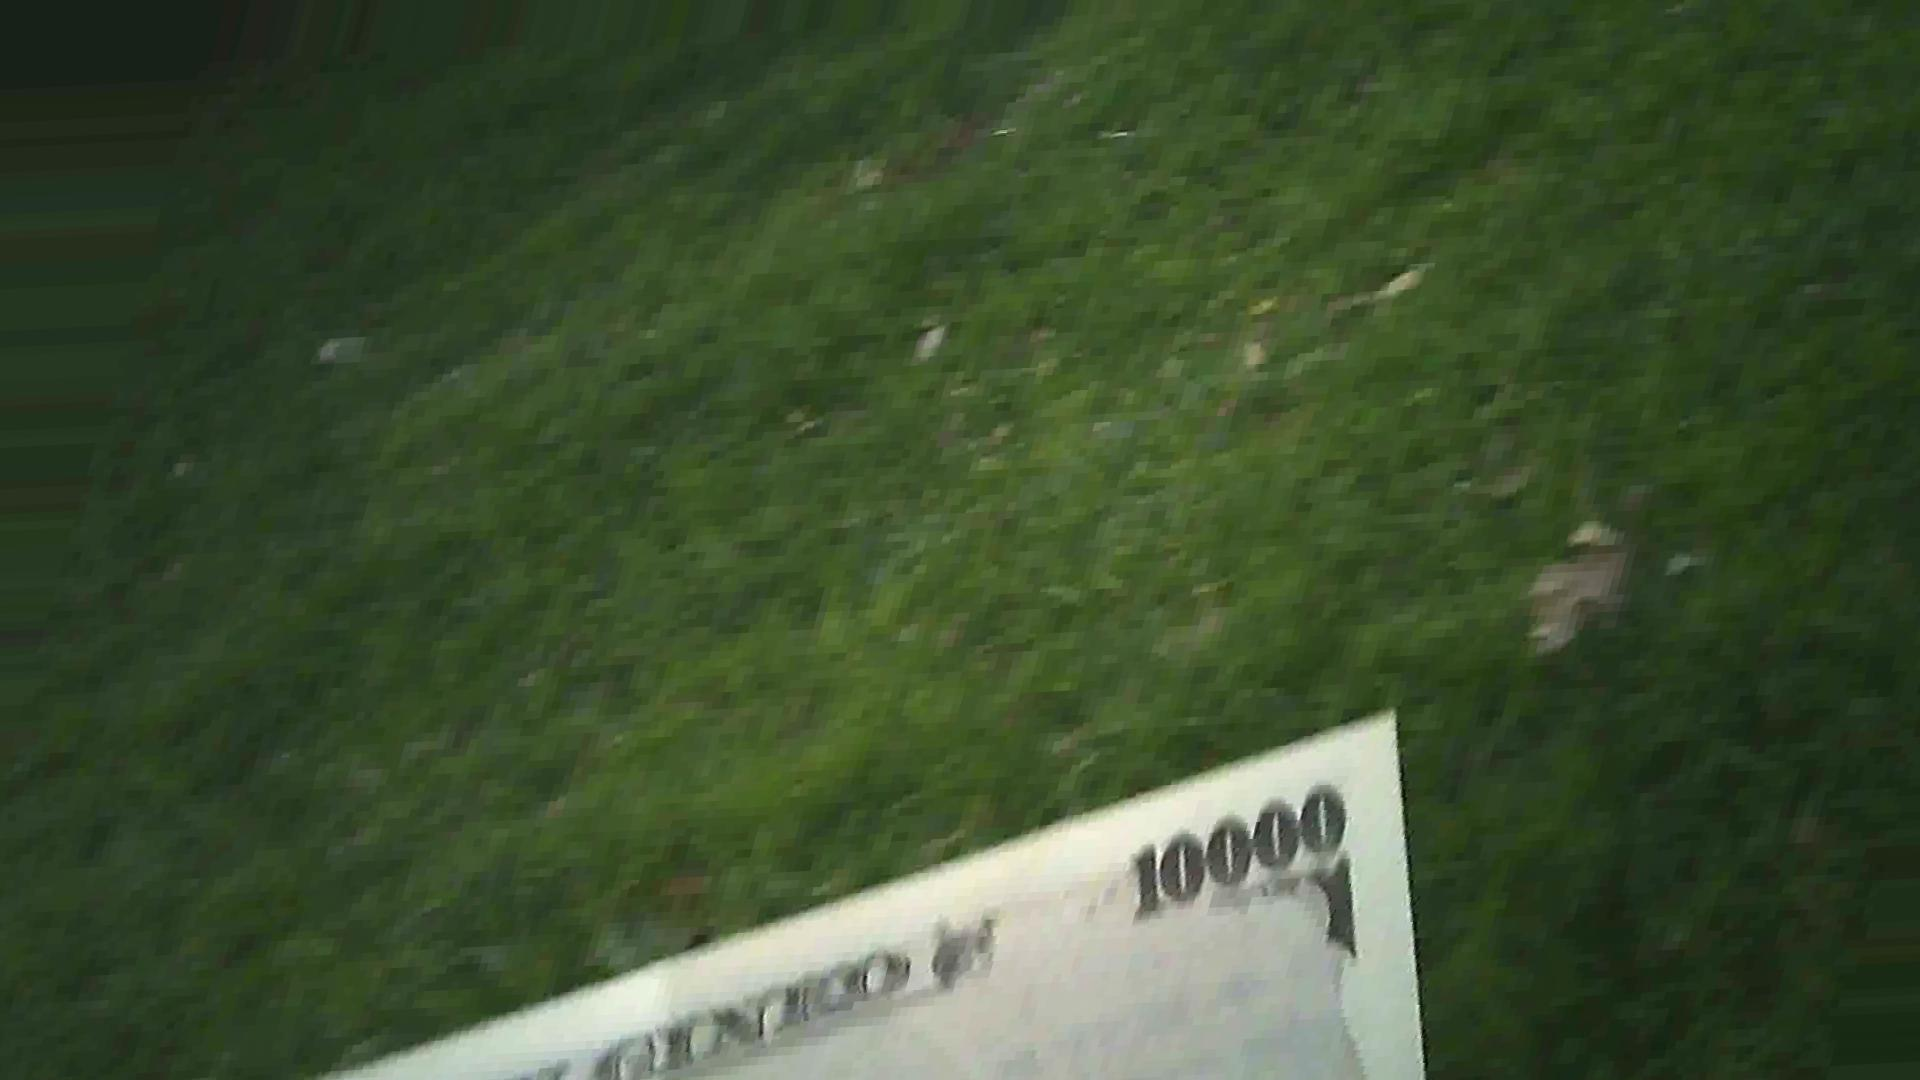10,000 Yen: (398, 659, 1458, 1067)
